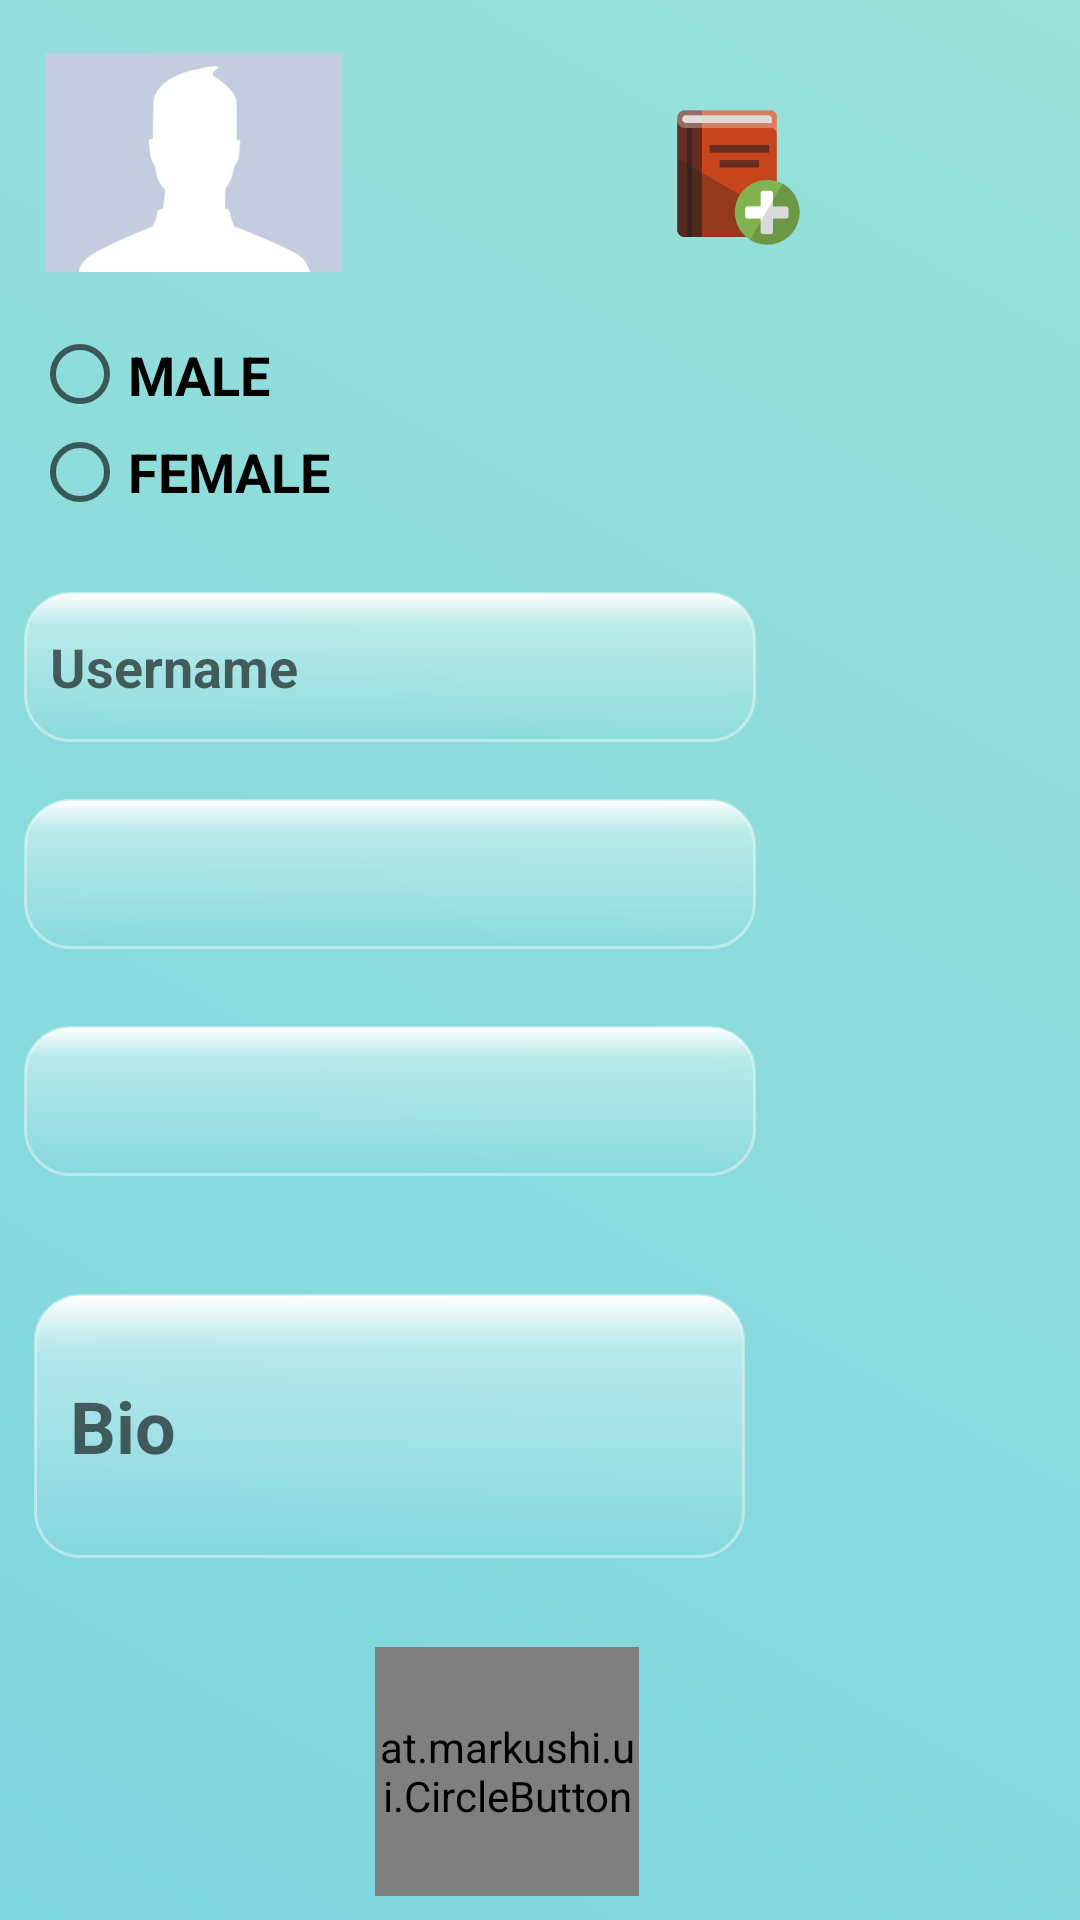

Where icons sit on this 1080x1920 app screen, as (x1, y1, x2, y2):
add: (677, 110, 800, 245)
